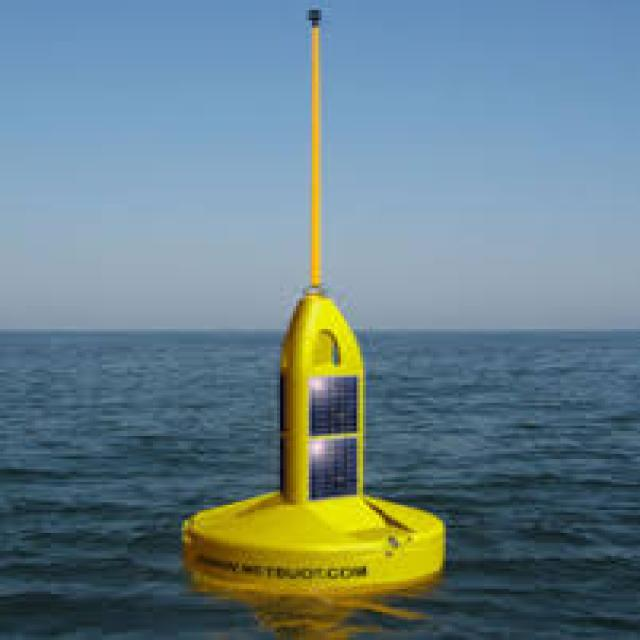2.5 sepcial mark: (158, 4, 479, 601)
